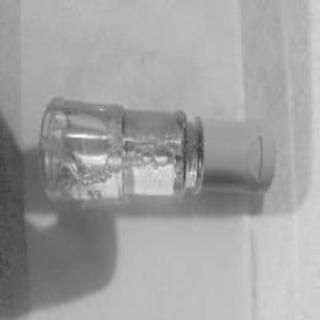objects: (40, 94, 276, 214)
